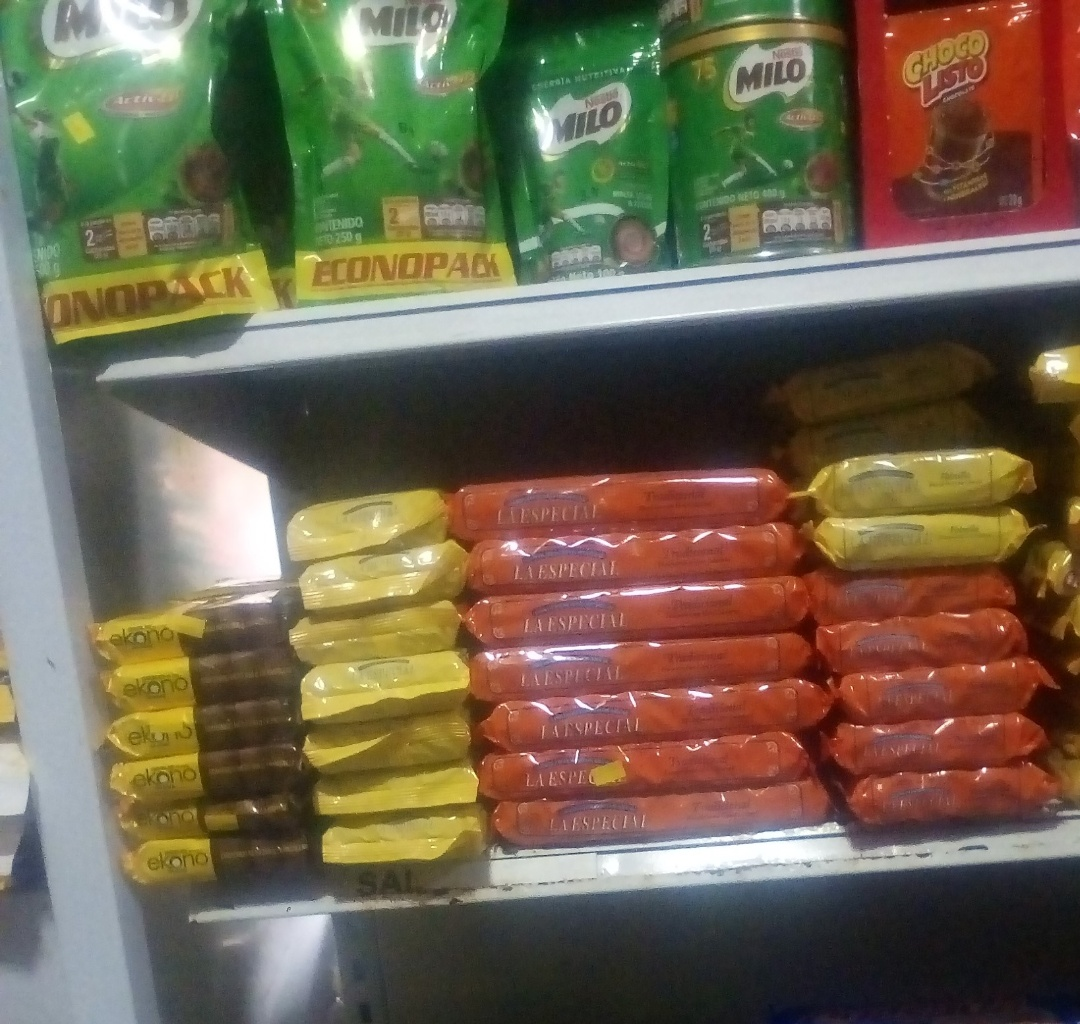COL0170103SOB02000: (889, 11, 1049, 220)
COL0170203DYP10000: (492, 22, 668, 276)
COL0170203DYP50000: (6, 3, 285, 336)
COL0170203LAT40000: (657, 17, 858, 251)
